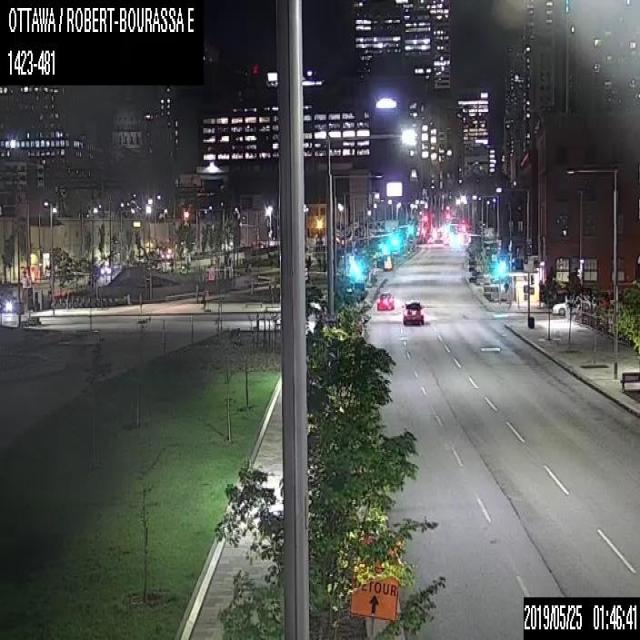construction: (350, 541, 403, 636)
vehicle: (401, 299, 424, 325), (376, 291, 394, 309), (552, 301, 566, 316)
